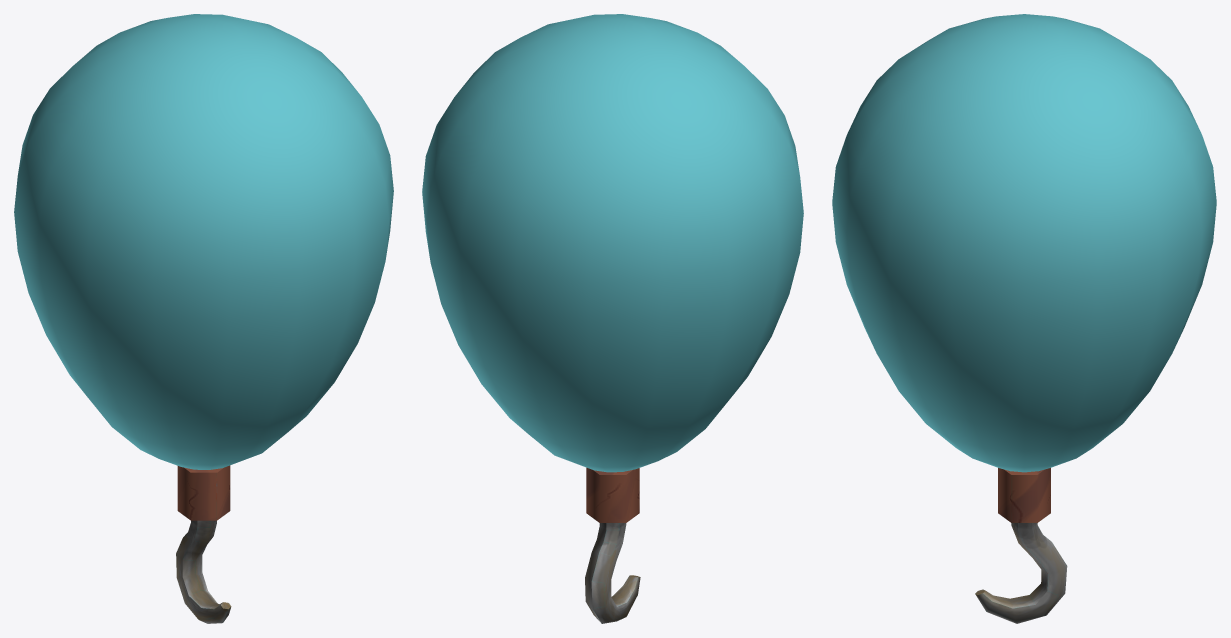
The model's file is baloon.fbx.
3 views of the same model, side by side, from view 1: azimuth 30°, elevation 25°; view 2: azimuth 150°, elevation 25°; view 3: azimuth 270°, elevation 25° (orthographic).
Visible parts, largest first — view 1: baloon, hook; view 2: baloon, hook; view 3: baloon, hook.
Boxes of the visible parts, x1,y1,x2,y2 form: baloon: (14, 14, 393, 469); hook: (176, 465, 231, 623); baloon: (422, 14, 803, 472); hook: (585, 467, 640, 623); baloon: (832, 14, 1216, 472); hook: (975, 468, 1067, 623).
Size of the model in its own units: 346 by 587 by 346.
